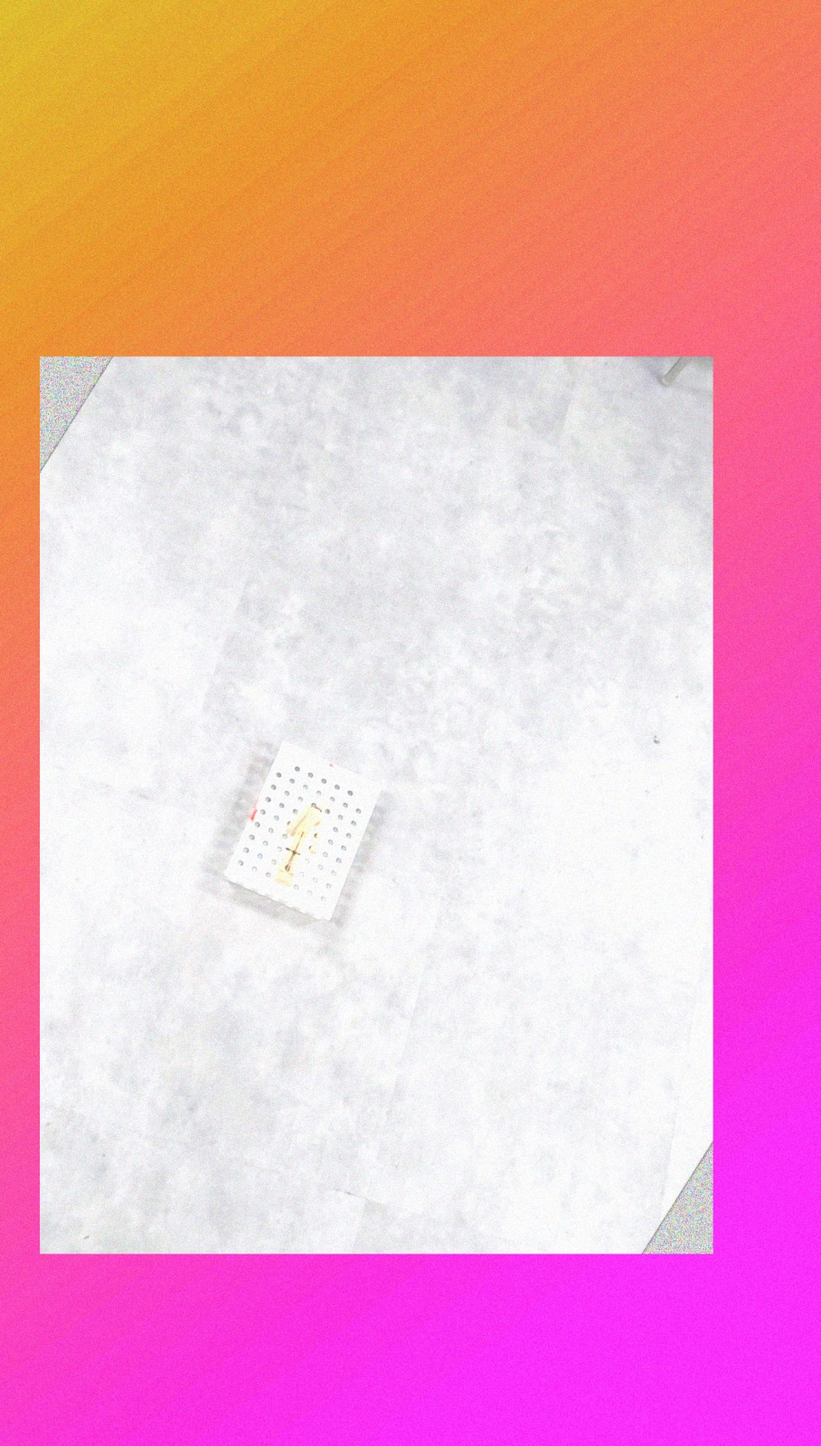basket: (220, 738, 382, 925)
mannequin: (274, 799, 326, 887)
